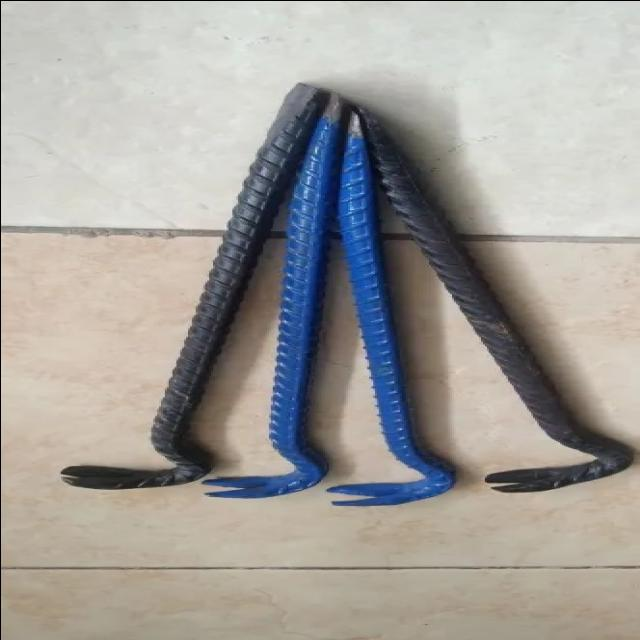Linggis: (56, 83, 336, 495)
